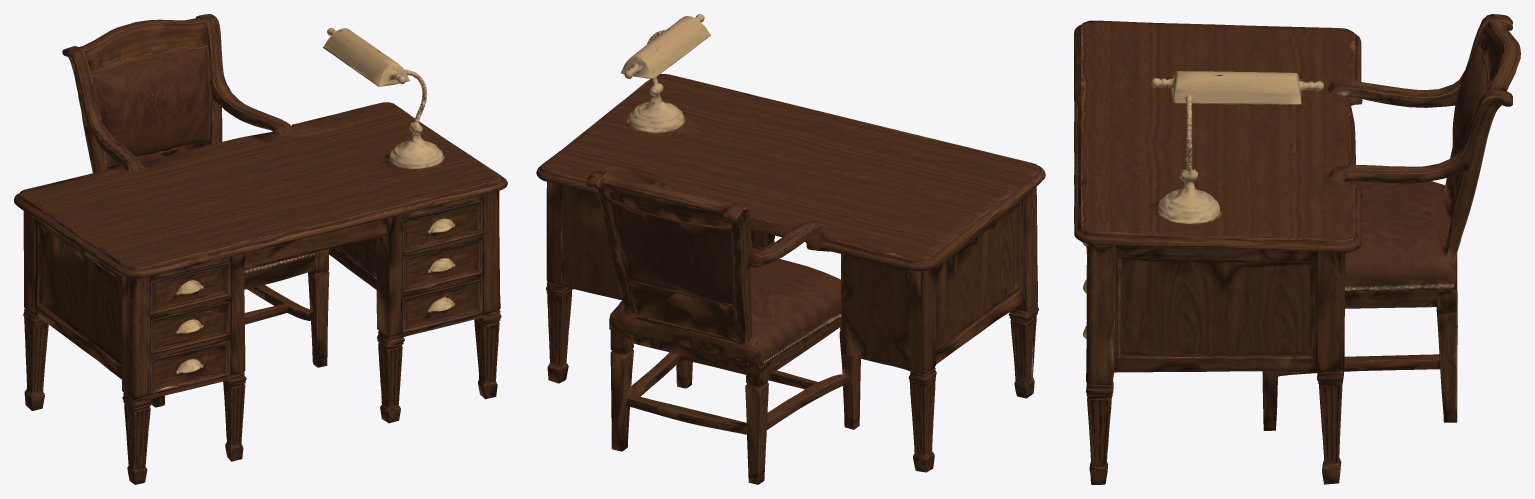
The model's file is reading_desk.glb.
The picture shows the model from 3 angles, left to right: view 1: azimuth 30°, elevation 25°; view 2: azimuth 150°, elevation 25°; view 3: azimuth 270°, elevation 25°; orthographic projection. The views are drawn at different scales.
Size of the model in its own units: 1.7 by 1.36 by 1.47.
Materials: 1 (1 with a texture image).
